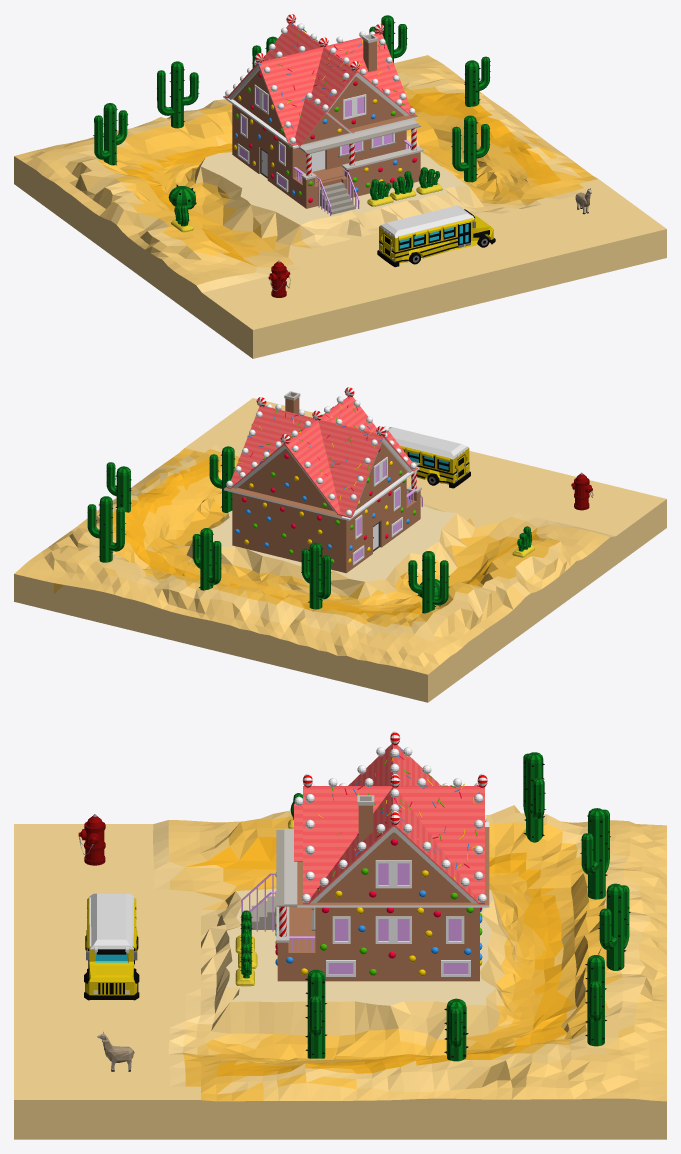
The picture shows the model from 3 angles, top to bottom: view 1: azimuth 30°, elevation 25°; view 2: azimuth 150°, elevation 25°; view 3: azimuth 270°, elevation 25°; orthographic projection. The views are drawn at different scales.
Visible parts, largest first — view 1: Cube.001, Cube.1203, VEHICLES_SCHOOL_BUS, Cylinder.044, Cylinder.037, Cylinder.045, Cylinder.038, Cylinder.042, OBJRANDOM_FIRE_HYDRANT, Cylinder.039, Cylinder.041; view 2: Cube.001, Cube.1203, VEHICLES_SCHOOL_BUS, Cylinder.042, Cylinder.045, Cylinder.044, Cylinder.043, Cylinder.037, Cylinder.038, OBJRANDOM_FIRE_HYDRANT; view 3: Cube.001, Cube.1203, VEHICLES_SCHOOL_BUS, Cylinder.043, Cylinder.044, Cylinder.045, Cylinder.037, Cylinder.042, Cylinder.038, OBJRANDOM_FIRE_HYDRANT, ANIMAL_LLAMA, Cylinder.041.
Boxes of the visible parts, <box> form: Cube.001: <box>14,55,666,358</box>; Cube.1203: <box>223,14,423,215</box>; VEHICLES_SCHOOL_BUS: <box>377,205,495,267</box>; Cylinder.044: <box>157,61,199,128</box>; Cylinder.037: <box>451,115,489,182</box>; Cylinder.045: <box>93,103,128,165</box>; Cylinder.038: <box>464,56,490,106</box>; Cylinder.042: <box>369,15,407,63</box>; OBJRANDOM_FIRE_HYDRANT: <box>268,260,290,297</box>; Cylinder.039: <box>367,179,393,206</box>; Cylinder.041: <box>416,167,442,194</box>; Cube.001: <box>14,398,666,702</box>; Cube.1203: <box>224,387,422,573</box>; VEHICLES_SCHOOL_BUS: <box>389,427,470,488</box>; Cylinder.042: <box>87,496,125,562</box>; Cylinder.045: <box>408,551,449,613</box>; Cylinder.044: <box>301,542,331,609</box>; Cylinder.043: <box>192,528,221,590</box>; Cylinder.037: <box>209,446,239,512</box>; Cylinder.038: <box>106,462,131,512</box>; OBJRANDOM_FIRE_HYDRANT: <box>571,472,593,510</box>; Cube.001: <box>14,805,666,1139</box>; Cube.1203: <box>241,731,489,981</box>; VEHICLES_SCHOOL_BUS: <box>84,893,139,1000</box>; Cylinder.043: <box>598,883,630,970</box>; Cylinder.044: <box>580,808,610,899</box>; Cylinder.045: <box>523,752,545,842</box>; Cylinder.037: <box>305,969,326,1058</box>; Cylinder.042: <box>585,955,606,1046</box>; Cylinder.038: <box>444,998,468,1061</box>; OBJRANDOM_FIRE_HYDRANT: <box>78,814,105,865</box>; ANIMAL_LLAMA: <box>97,1032,134,1071</box>; Cylinder.041: <box>235,943,254,986</box>.
Size of the model in its own units: 4002 by 1636 by 4001.
Materials: 40 (3 with a texture image).
